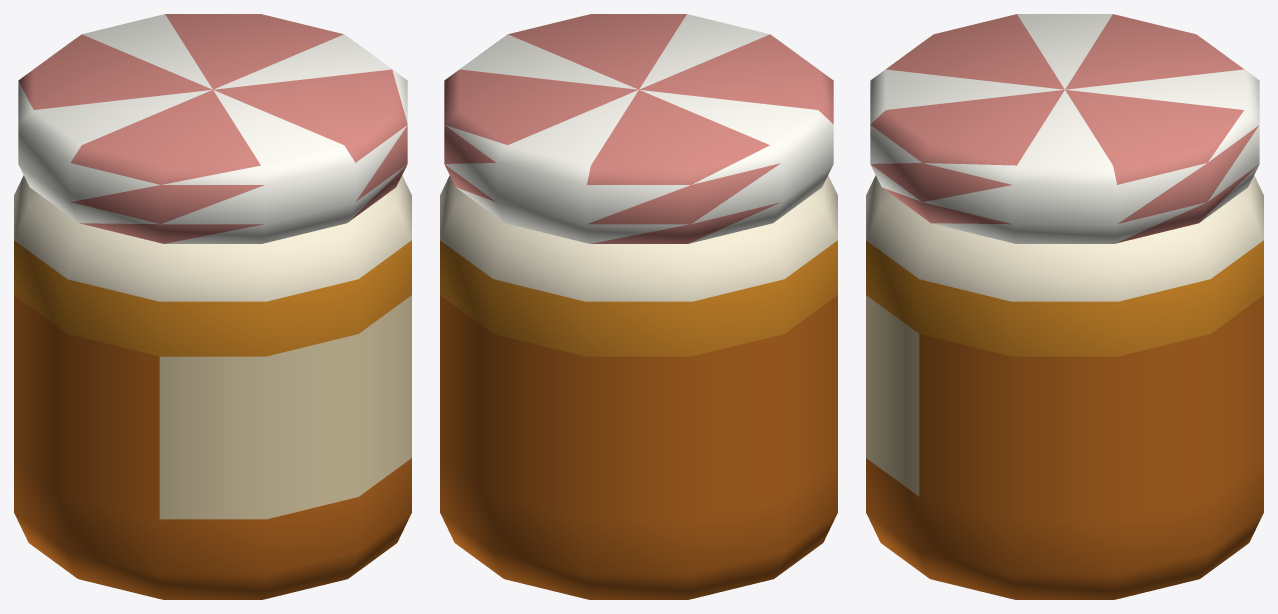
The model's file is itch_tiny_pleasant_picnic_jam.glb.
3 renders of one model, left to right at view 1: azimuth 30°, elevation 25°; view 2: azimuth 150°, elevation 25°; view 3: azimuth 270°, elevation 25°, orthographic.
Parts seen in each view (by area): view 1: jam; view 2: jam; view 3: jam.
Boxes of the visible parts, box(x1,y1,x2,y2) form: jam: box(14, 14, 411, 599); jam: box(440, 14, 837, 599); jam: box(866, 14, 1263, 599).
Size of the model in its own units: 0.42 by 0.519 by 0.42.
